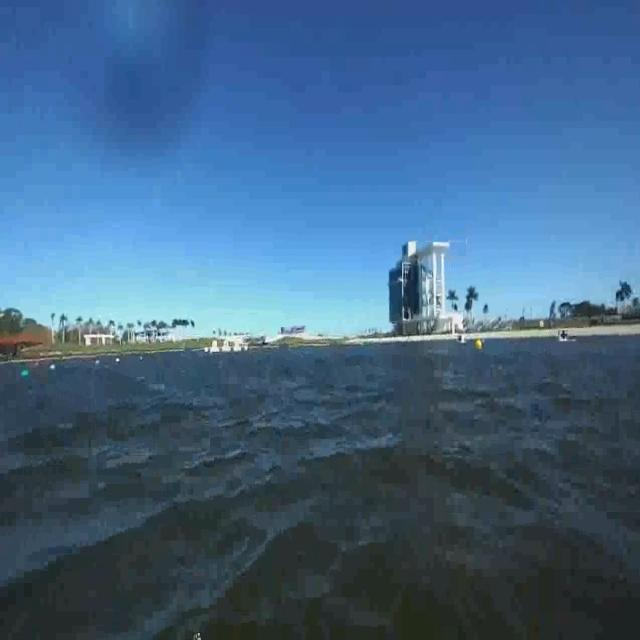green-buoy: (21, 368, 28, 378)
yellow-buoy: (474, 337, 483, 353)
